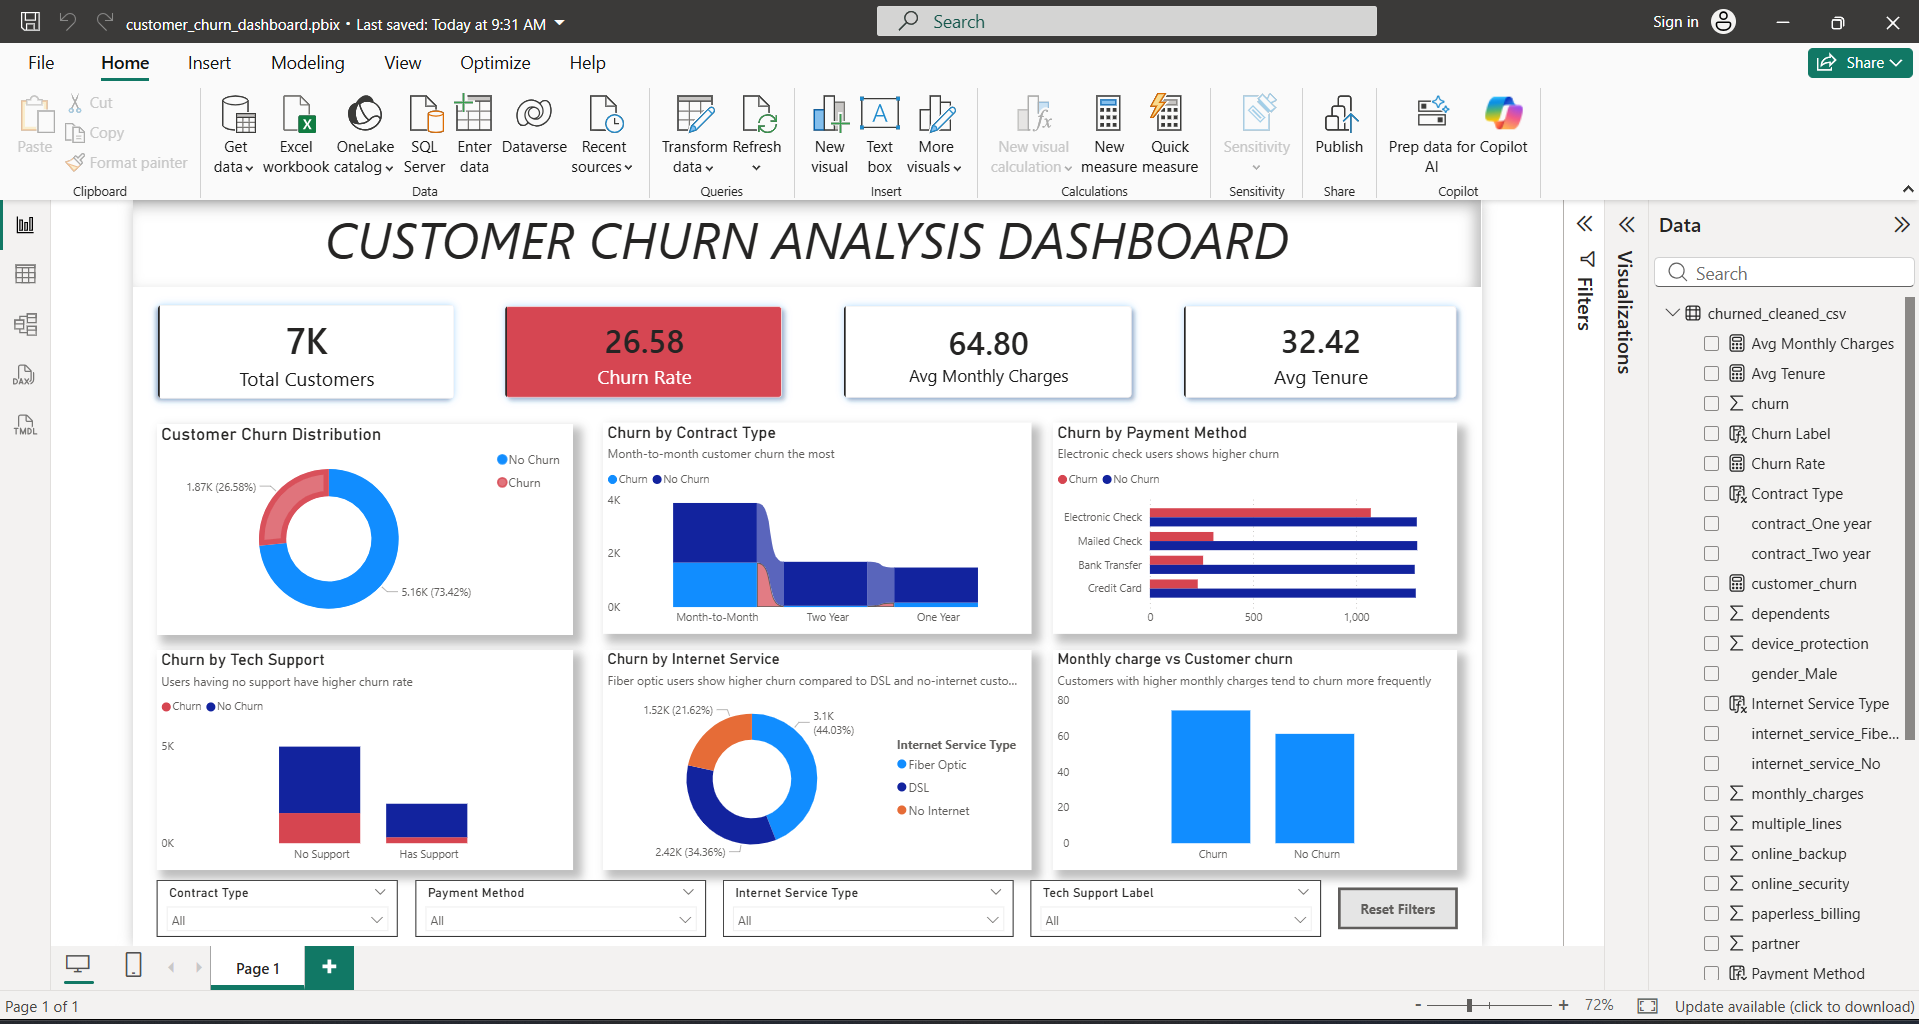

Layout of this report page (visuals, bound fields, positions):
{"tool":"powerbi","page":{"name":"Page 1","canvas":[1501,830],"ordinal":0},"visuals":[{"type":"cardVisual","fields":{"Data":["churned_cleaned_csv.Total Customers"]},"box":[0,88.3,385,160],"z":0},{"type":"cardVisual","fields":{"Data":["churned_cleaned_csv.Churn Rate"]},"box":[385,88.3,366.7,160],"z":1000},{"type":"cardVisual","fields":{"Data":["churned_cleaned_csv.Avg Monthly Charges"]},"box":[761.7,88.3,378.3,160],"z":2000},{"type":"cardVisual","fields":{"Data":["churned_cleaned_csv.Avg Tenure"]},"box":[1140,88.3,361.7,160],"z":3000},{"type":"donutChart","title":"Customer Churn Distribution","fields":{"Category":["churned_cleaned_csv.Churn Label"],"Y":["CountNonNull(churned_cleaned_csv.churn)"]},"box":[26.7,248.3,463.3,235],"z":4000},{"type":"columnChart","title":"Churn by Contract Type","fields":{"Series":["churned_cleaned_csv.Churn Label"],"Y":["CountNonNull(churned_cleaned_csv.phone_service)"],"Category":["churned_cleaned_csv.Contract Type"]},"box":[523.5,247.3,476.8,235],"z":5000},{"type":"clusteredBarChart","title":"Churn by Payment Method","fields":{"Category":["churned_cleaned_csv.Payment Method"],"Y":["CountNonNull(churned_cleaned_csv.phone_service)"],"Series":["churned_cleaned_csv.Churn Label"]},"box":[1023.6,247.3,449.3,235],"z":6000},{"type":"columnChart","title":"Churn by Tech Support","fields":{"Category":["churned_cleaned_csv.Tech Support Label"],"Series":["churned_cleaned_csv.Churn Label"],"Y":["CountNonNull(churned_cleaned_csv.phone_service)"]},"box":[26.1,500.1,463,244.6],"z":7000},{"type":"donutChart","title":"Churn by Internet Service","fields":{"Category":["churned_cleaned_csv.Internet Service Type","churned_cleaned_csv.Churn Label"],"Y":["CountNonNull(churned_cleaned_csv.phone_service)"]},"box":[523.5,500.1,476.8,244.6],"z":8000},{"type":"textbox","box":[0,0,1500,96.7],"z":9000},{"type":"clusteredColumnChart","title":"Monthly charge vs Customer churn","fields":{"Category":["churned_cleaned_csv.Churn Label"],"Y":["Avg(churned_cleaned_csv.monthly_charges)"]},"box":[1023.6,500.1,449.3,244.6],"z":10000},{"type":"slicer","fields":{"Values":["churned_cleaned_csv.Contract Type"]},"box":[26.7,756.7,268.3,63.3],"z":11000},{"type":"slicer","fields":{"Values":["churned_cleaned_csv.Payment Method"]},"box":[313.9,756.7,323.3,63.3],"z":12000},{"type":"slicer","fields":{"Values":["churned_cleaned_csv.Internet Service Type"]},"box":[656.1,756.7,323.3,63.3],"z":13000},{"type":"slicer","fields":{"Values":["churned_cleaned_csv.Tech Support Label"]},"box":[998.3,756.7,323.3,63.3],"z":14000},{"type":"actionButton","box":[1340,765,133.3,46.7],"z":15000}]}

Visuals, with their boxes on the page's 1501x830 design canvas (x1, y1, x2, y2). These are canvas units, not pixel positions in the 1919x1024 screenshot, which may show the page scaled, cropped or inside an application window:
cardVisual - churned_cleaned_csv.Total Customers: 0,88,385,248
cardVisual - churned_cleaned_csv.Churn Rate: 385,88,752,248
cardVisual - churned_cleaned_csv.Avg Monthly Charges: 762,88,1140,248
cardVisual - churned_cleaned_csv.Avg Tenure: 1140,88,1502,248
"Customer Churn Distribution" donutChart: 27,248,490,483
"Churn by Contract Type" columnChart: 524,247,1000,482
"Churn by Payment Method" clusteredBarChart: 1024,247,1473,482
"Churn by Tech Support" columnChart: 26,500,489,745
"Churn by Internet Service" donutChart: 524,500,1000,745
textbox: 0,0,1500,97
"Monthly charge vs Customer churn" clusteredColumnChart: 1024,500,1473,745
slicer - churned_cleaned_csv.Contract Type: 27,757,295,820
slicer - churned_cleaned_csv.Payment Method: 314,757,637,820
slicer - churned_cleaned_csv.Internet Service Type: 656,757,979,820
slicer - churned_cleaned_csv.Tech Support Label: 998,757,1322,820
actionButton: 1340,765,1473,812
